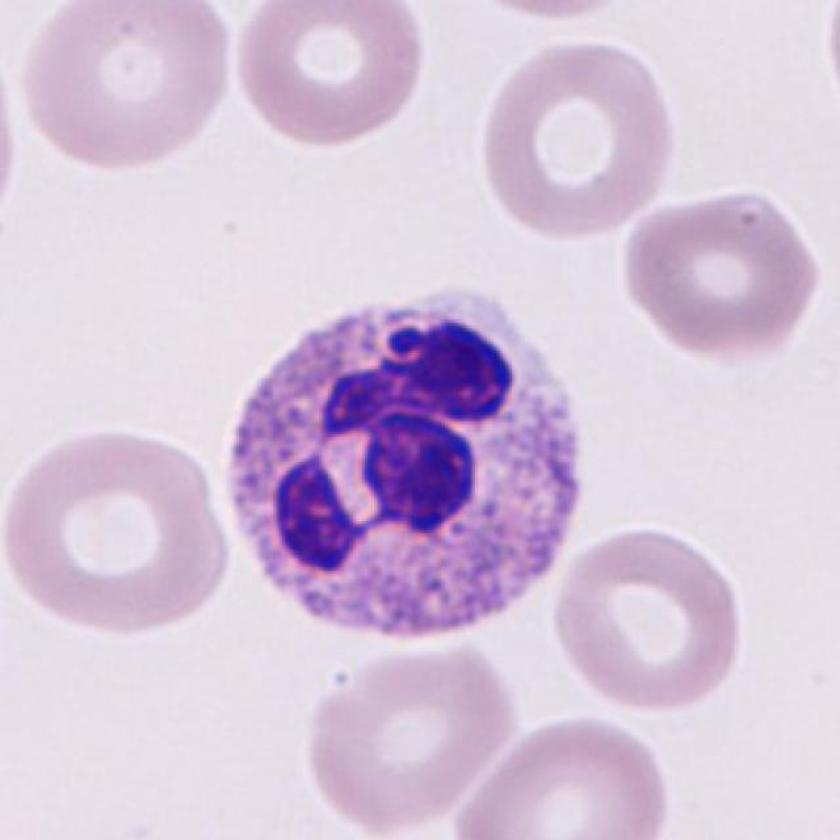neutrophil: (227, 291, 585, 643)
